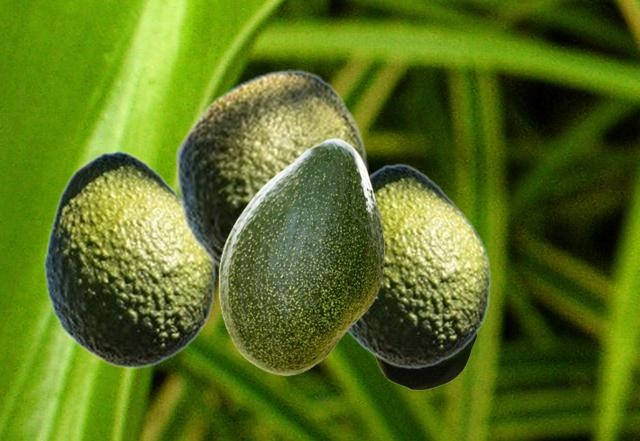avocado: (218, 138, 383, 374), (174, 69, 367, 270), (42, 150, 215, 368), (346, 163, 490, 368), (375, 336, 476, 389)
